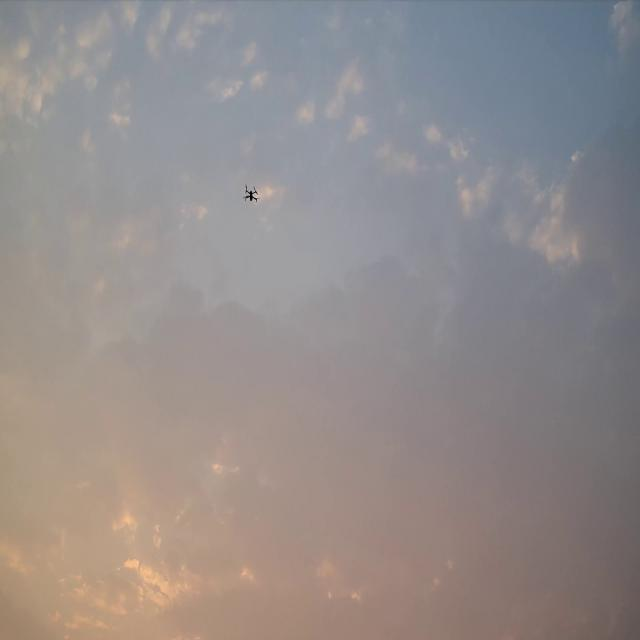UAV: (242, 184, 260, 202)
